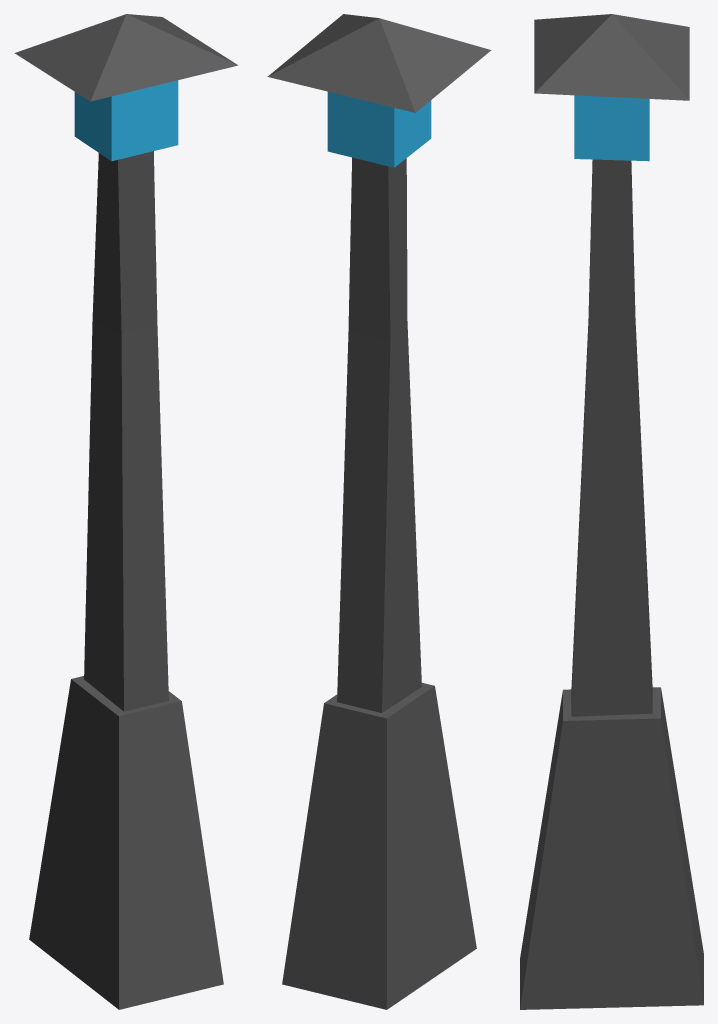
Rendered from p-bld-background_lamp_off.glb.
The picture shows the model from 3 angles, left to right: view 1: azimuth 30°, elevation 25°; view 2: azimuth 150°, elevation 25°; view 3: azimuth 270°, elevation 25°; orthographic projection. The views are drawn at different scales.
Parts seen in each view (by area): view 1: Cube; view 2: Cube; view 3: Cube.
Part boxes in pixels (x1,y1,x2,y2): Cube: (14,14,238,1009); Cube: (267,14,491,1009); Cube: (520,14,703,1009).
Bounding box in the file's own units: 1.71 × 10.49 × 1.8.
